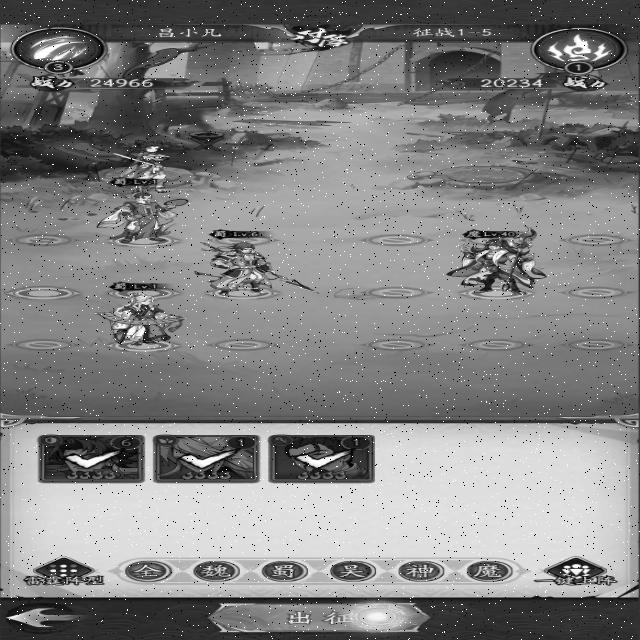navigation-myHeroes: (264, 431, 382, 486), (31, 432, 149, 486), (148, 432, 260, 484)
operation-back: (2, 602, 95, 634)
operation-camp: (390, 558, 449, 584), (322, 558, 382, 583), (187, 558, 243, 584), (458, 559, 517, 582), (257, 558, 312, 582), (120, 559, 174, 583)
operation-confirm: (204, 600, 430, 634)
operation-deployment: (22, 554, 108, 589)
operation-oneKeyDeployment: (530, 554, 625, 589)
